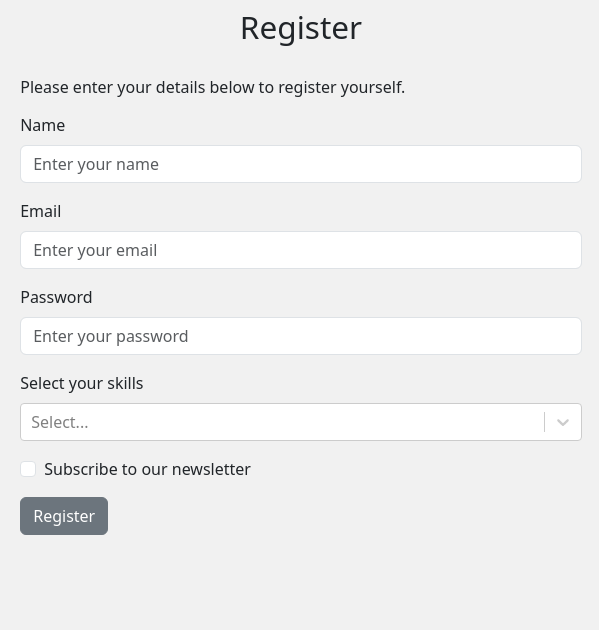
Test: Register component › should show error message when all the fields are not entered
Click the button "Register": x=64, y=516 x1=20 y1=497 x2=108 y2=535
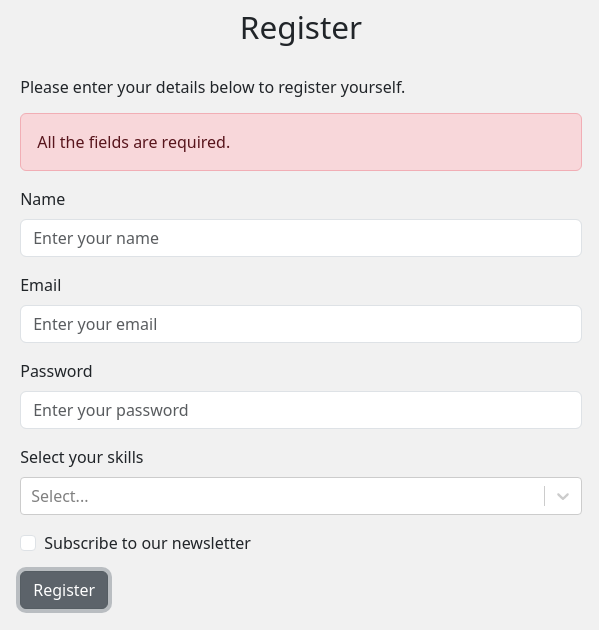
Expected: the message "All the fields are required." is shown, x1=20 y1=113 x2=582 y2=171
